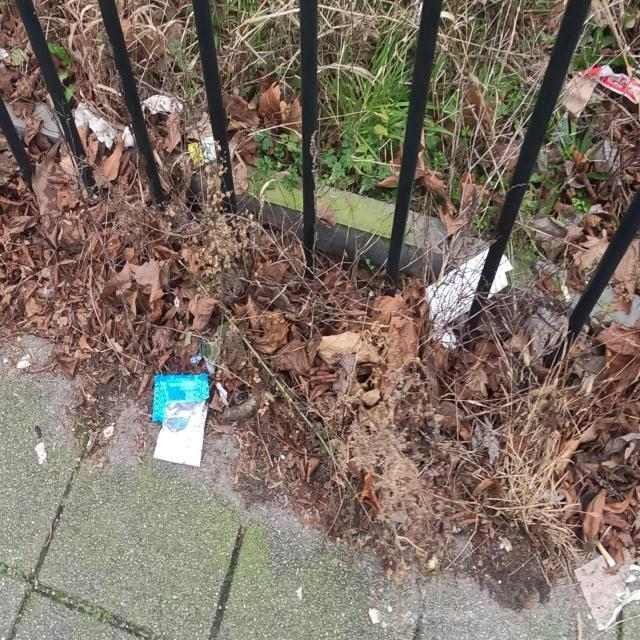Paper: (424, 248, 514, 350), (574, 546, 640, 632), (74, 102, 116, 152), (142, 94, 184, 120), (121, 126, 135, 148)
Plastic: (152, 373, 210, 468), (577, 62, 640, 104), (188, 136, 216, 168)
